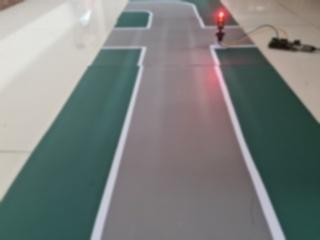red: (213, 6, 230, 38)
